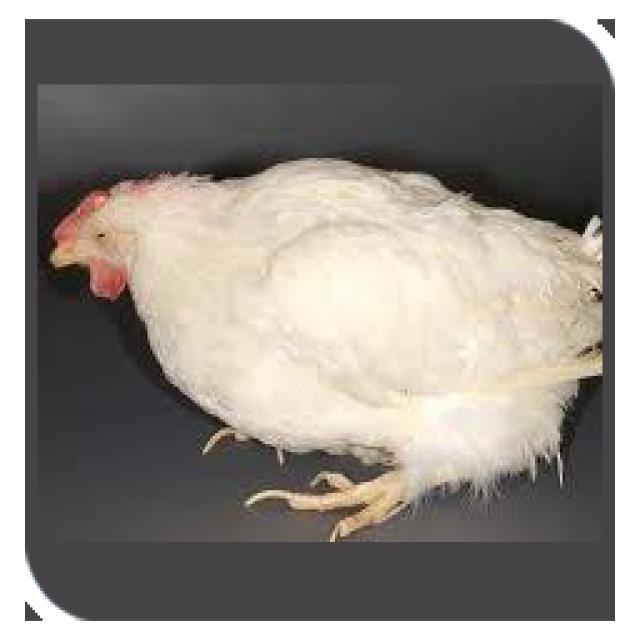AbNormal: (53, 163, 606, 541)
